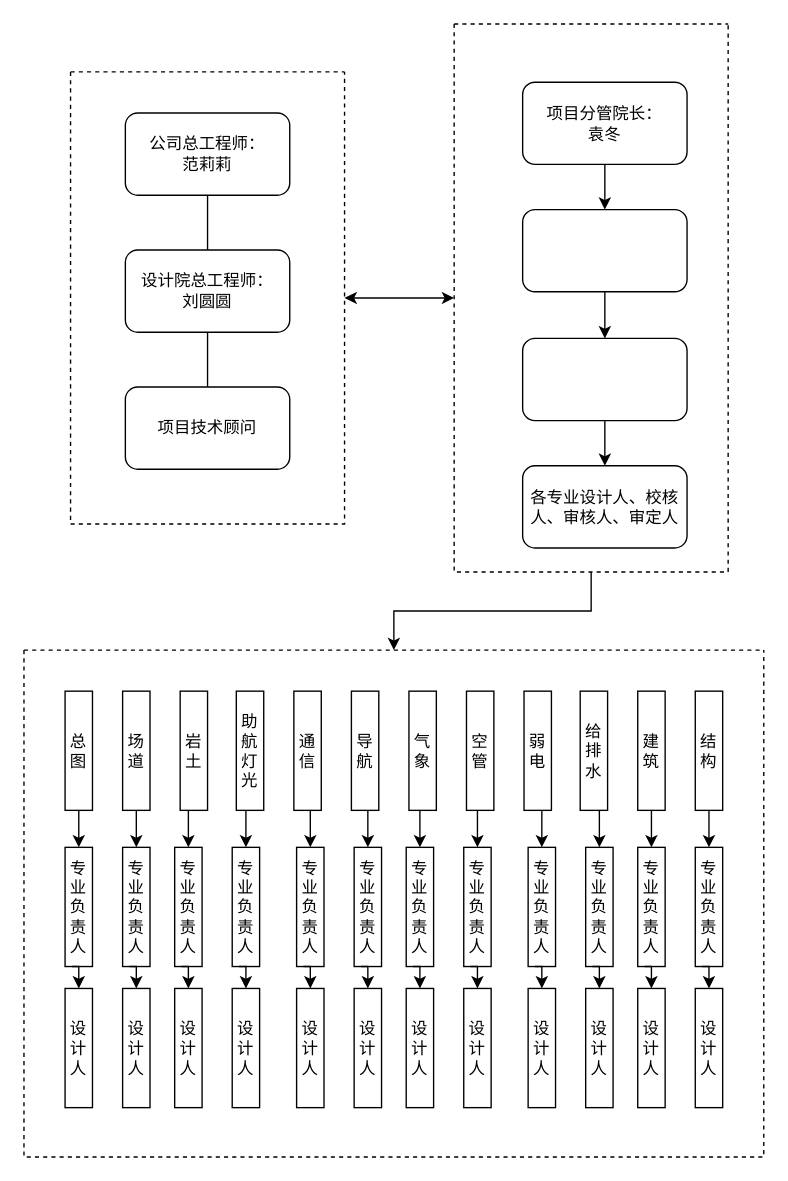
This 788x1181 diagram has some shape labels left out. Here are the shapes that lost their labels. From the top down, the centre of each, then its label:
pixel 604 250: 项目负责人： 肖国华
pixel 604 379: 各专业负责人
